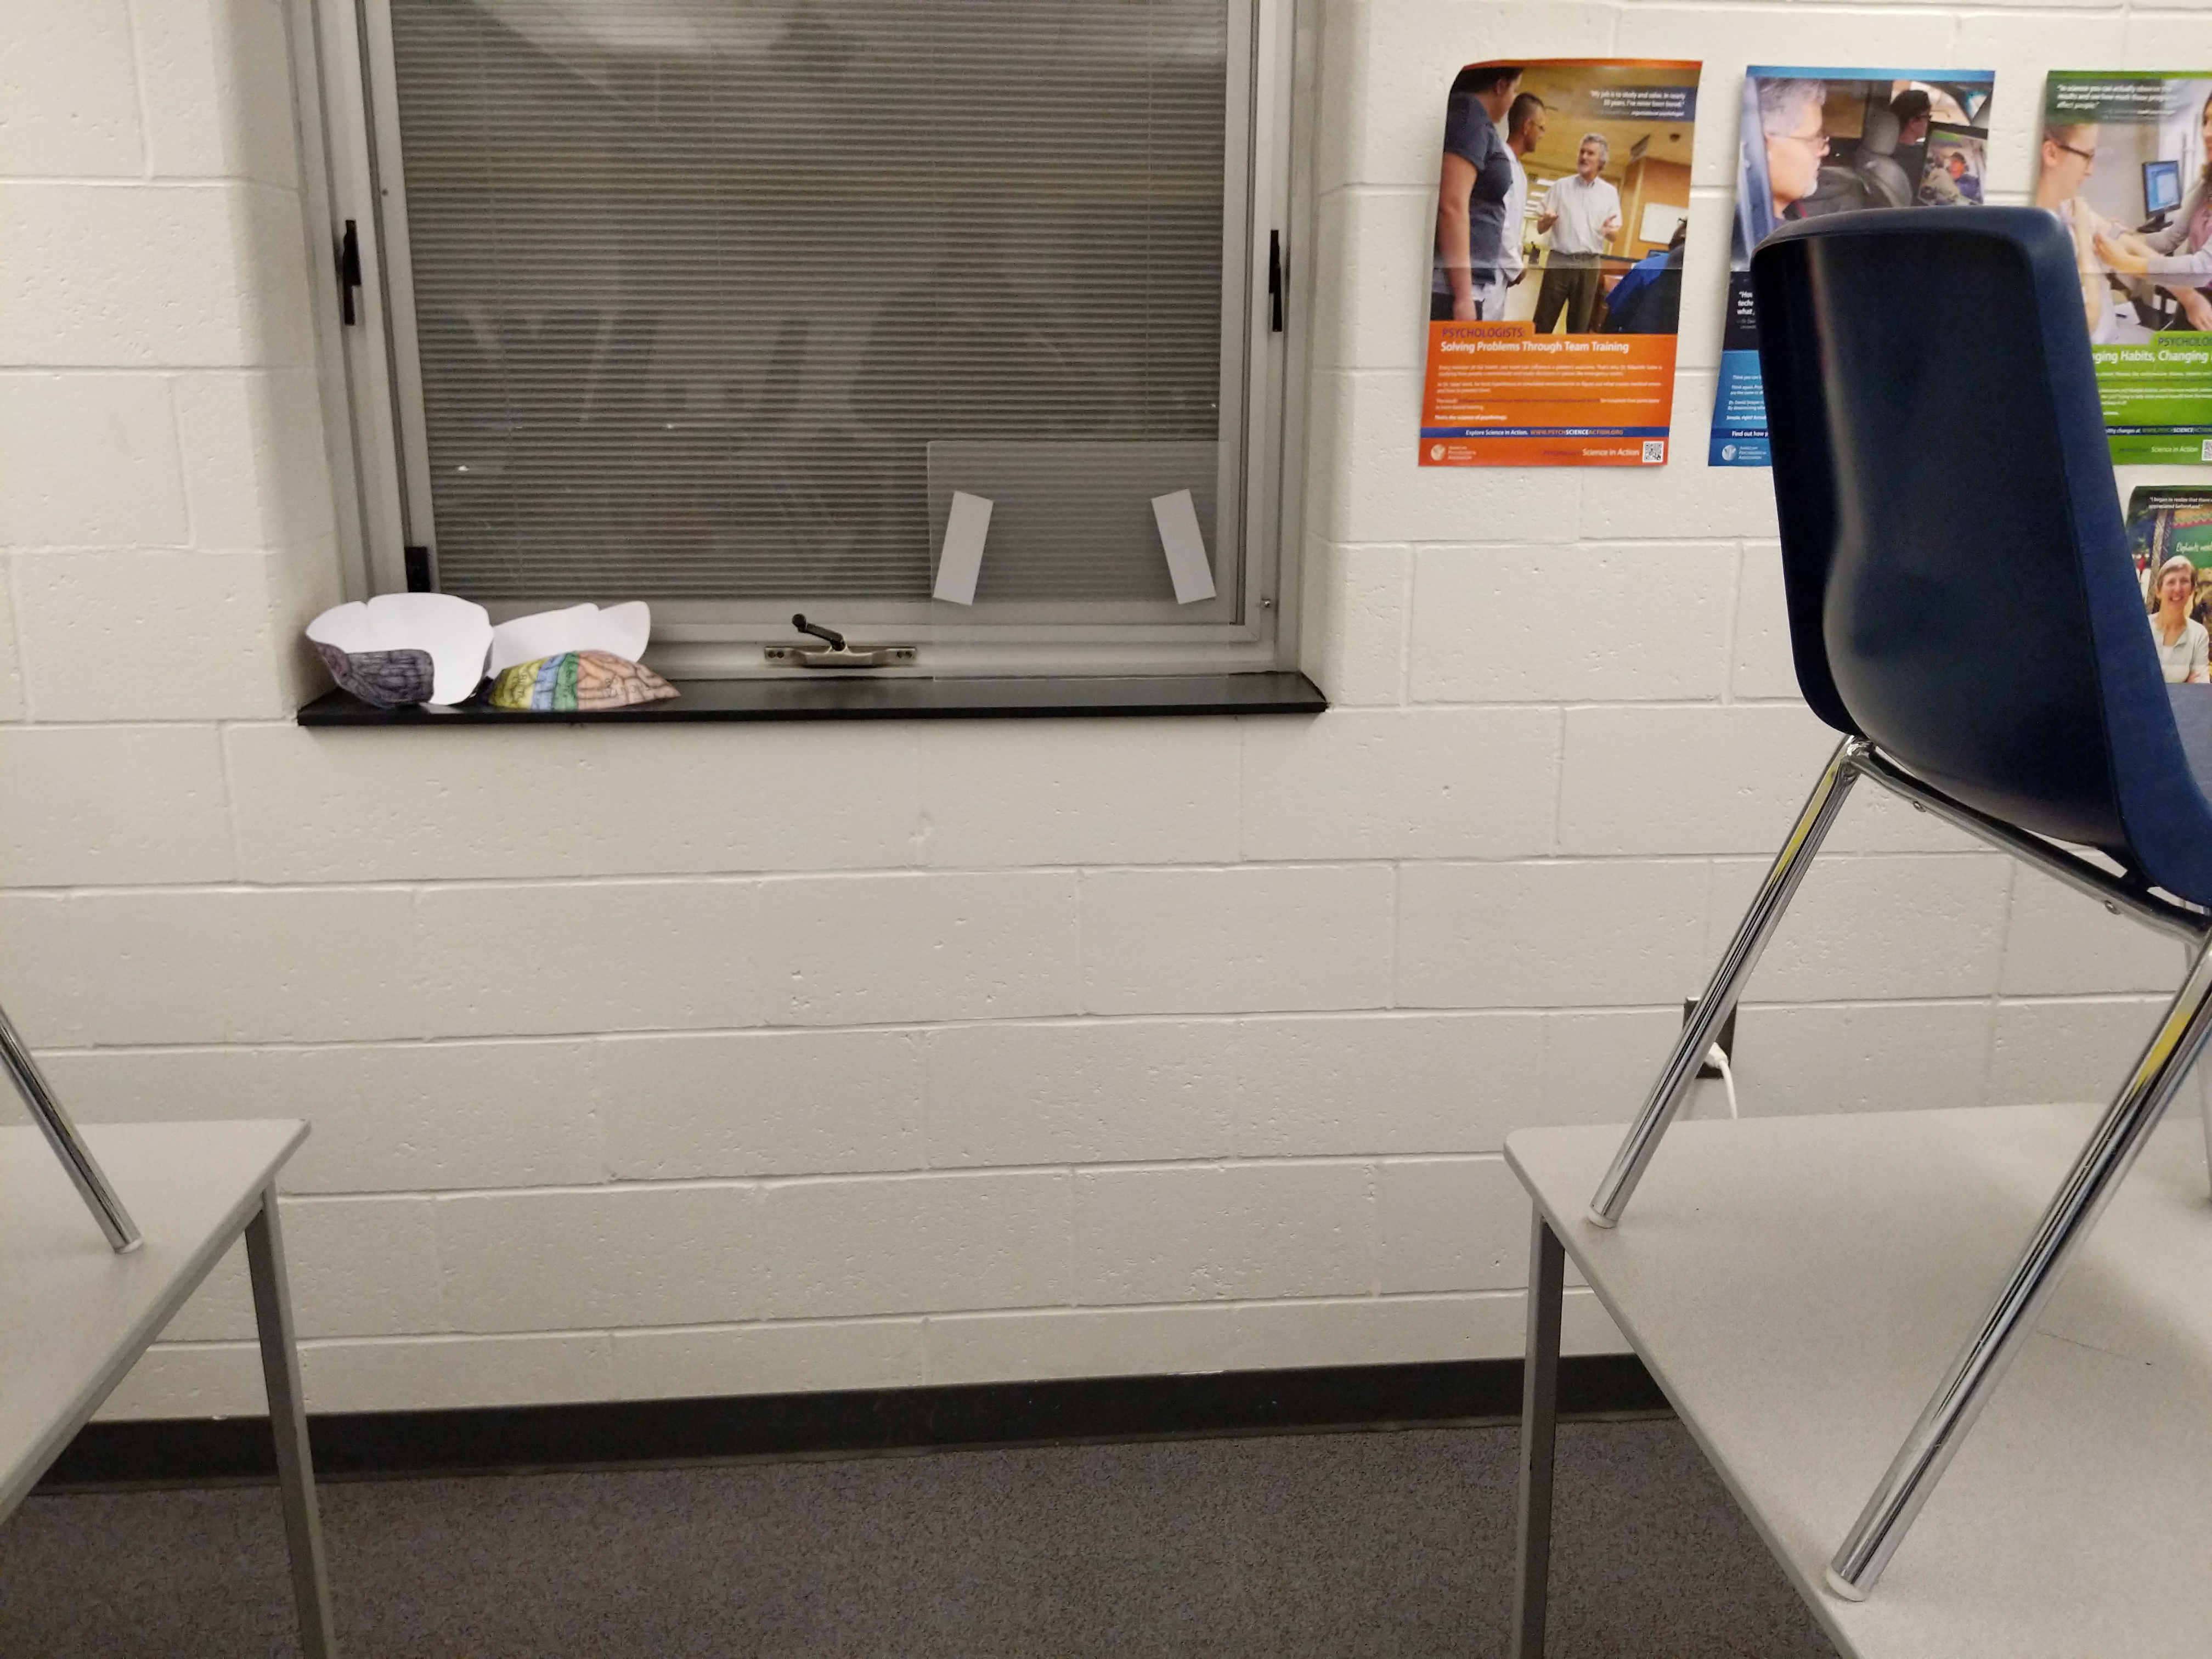vision_target: (928, 484, 1223, 610)
